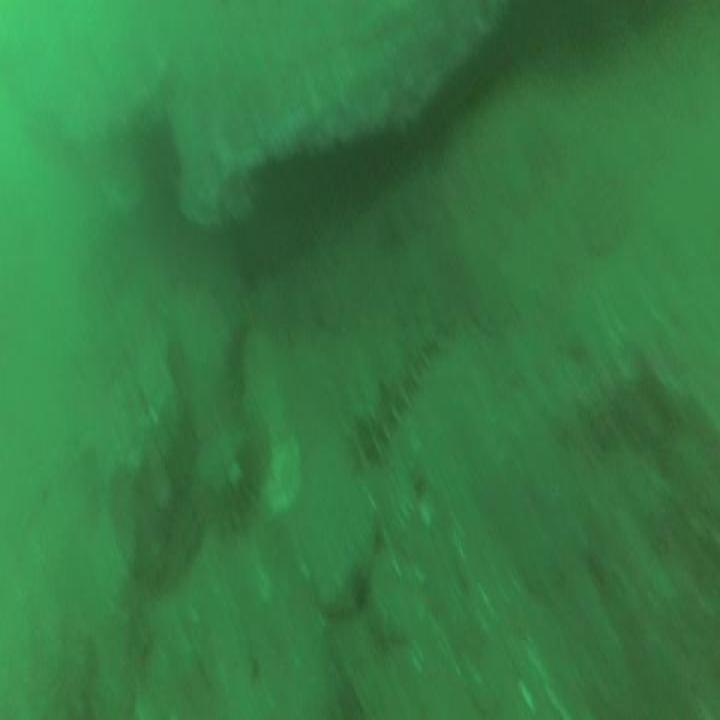holothurian: (342, 306, 454, 466)
